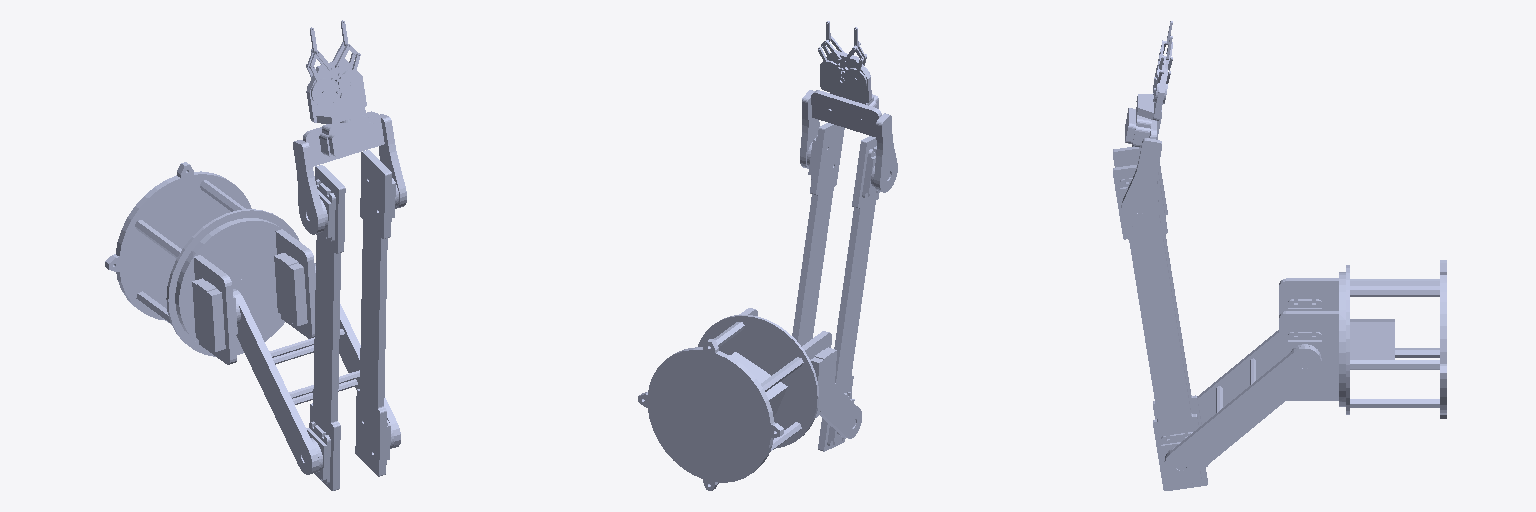
The robot description file, URDF, robot "ROBOTIC ARM ASSM URDF AND MESHES":
<?xml version="1.0" encoding="utf-8"?>
<!-- This URDF was automatically created by SolidWorks to URDF Exporter! Originally created by [author] ([email redacted]) 
     Commit Version: 1.5.1-0-g916b5db  Build Version: 1.5.7152.31018
     For more information, please see http://wiki.ros.org/sw_urdf_exporter -->
<robot
  name="ROBOTIC ARM ASSM URDF AND MESHES">
  <link
    name="base_link">
    <inertial>
      <origin
        xyz="0.0130606856888135 -0.133927940020527 0.104796725192401"
        rpy="0 0 0" />
      <mass
        value="1.3348146018366" />
      <inertia
        ixx="0.00731717119287839"
        ixy="-7.11045805568135E-21"
        ixz="-5.57214543565611E-19"
        iyy="0.0135564188757262"
        iyz="-2.94900207348336E-19"
        izz="0.00731717119287839" />
    </inertial>
    <visual>
      <origin
        xyz="0 0 0"
        rpy="0 0 0" />
      <geometry>
        <mesh
          filename="package://ROBOTIC ARM ASSM URDF AND MESHES/meshes/base_link.STL" />
      </geometry>
      <material
        name="">
        <color
          rgba="0.792156862745098 0.819607843137255 0.933333333333333 1" />
      </material>
    </visual>
    <collision>
      <origin
        xyz="0 0 0"
        rpy="0 0 0" />
      <geometry>
        <mesh
          filename="package://ROBOTIC ARM ASSM URDF AND MESHES/meshes/base_link.STL" />
      </geometry>
    </collision>
  </link>
  <link
    name="rotating base">
    <inertial>
      <origin
        xyz="-0.00118830586385246 -0.000117561062136257 0.107080284193852"
        rpy="0 0 0" />
      <mass
        value="1.39759764473395" />
      <inertia
        ixx="0.00478115680882623"
        ixy="-0.000102672286793589"
        ixz="3.62391329450547E-05"
        iyy="0.00570738237120315"
        iyz="2.29069919150104E-06"
        izz="0.00576377931534605" />
    </inertial>
    <visual>
      <origin
        xyz="0 0 0"
        rpy="0 0 0" />
      <geometry>
        <mesh
          filename="package://ROBOTIC ARM ASSM URDF AND MESHES/meshes/rotating base.STL" />
      </geometry>
      <material
        name="">
        <color
          rgba="0.792156862745098 0.819607843137255 0.933333333333333 1" />
      </material>
    </visual>
    <collision>
      <origin
        xyz="0 0 0"
        rpy="0 0 0" />
      <geometry>
        <mesh
          filename="package://ROBOTIC ARM ASSM URDF AND MESHES/meshes/rotating base.STL" />
      </geometry>
    </collision>
  </link>
  <joint
    name="rotating base"
    type="fixed">
    <origin
      xyz="0.0130606856888136 -0.160303043320073 0.104796725192401"
      rpy="1.5707963267949 0 0" />
    <parent
      link="base_link" />
    <child
      link="rotating base" />
    <axis
      xyz="0 0 0" />
  </joint>
  <link
    name="lower arm">
    <inertial>
      <origin
        xyz="-0.128633379591227 -6.66133814775094E-16 -0.0583747798123897"
        rpy="0 0 0" />
      <mass
        value="0.325078566457199" />
      <inertia
        ixx="0.000884467798485974"
        ixy="-4.28673439826691E-06"
        ixz="-1.01431759828584E-20"
        iyy="0.00203100229868317"
        iyz="-4.48158543981203E-19"
        izz="0.00126432994950172" />
    </inertial>
    <visual>
      <origin
        xyz="0 0 0"
        rpy="0 0 0" />
      <geometry>
        <mesh
          filename="package://ROBOTIC ARM ASSM URDF AND MESHES/meshes/lower arm.STL" />
      </geometry>
      <material
        name="">
        <color
          rgba="0.792156862745098 0.819607843137255 0.933333333333333 1" />
      </material>
    </visual>
    <collision>
      <origin
        xyz="0 0 0"
        rpy="0 0 0" />
      <geometry>
        <mesh
          filename="package://ROBOTIC ARM ASSM URDF AND MESHES/meshes/lower arm.STL" />
      </geometry>
    </collision>
  </link>
  <joint
    name="lower arm"
    type="fixed">
    <origin
      xyz="0.0789039407101542 0.0351054747045865 0.156246736186644"
      rpy="1.5707963267949 0.848171739621261 1.63758786604713" />
    <parent
      link="rotating base" />
    <child
      link="lower arm" />
    <axis
      xyz="0 0 0" />
  </joint>
  <link
    name="upper arm ">
    <inertial>
      <origin
        xyz="-0.0550000000000023 0.162571615295359 -0.0390699999999903"
        rpy="0 0 0" />
      <mass
        value="0.553932772437962" />
      <inertia
        ixx="0.00950068407154474"
        ixy="1.03939412957575E-16"
        ixz="5.41032802532309E-20"
        iyy="0.000128887101671353"
        iyz="1.40700012236978E-18"
        izz="0.00961971522402867" />
    </inertial>
    <visual>
      <origin
        xyz="0 0 0"
        rpy="0 0 0" />
      <geometry>
        <mesh
          filename="package://ROBOTIC ARM ASSM URDF AND MESHES/meshes/upper arm .STL" />
      </geometry>
      <material
        name="">
        <color
          rgba="0.792156862745098 0.819607843137255 0.933333333333333 1" />
      </material>
    </visual>
    <collision>
      <origin
        xyz="0 0 0"
        rpy="0 0 0" />
      <geometry>
        <mesh
          filename="package://ROBOTIC ARM ASSM URDF AND MESHES/meshes/upper arm .STL" />
      </geometry>
    </collision>
  </link>
  <joint
    name="upper arm"
    type="fixed">
    <origin
      xyz="-0.311174431281137 0.029881798738756 -0.0941399999999955"
      rpy="-3.14159265358979 0 2.56722332066206" />
    <parent
      link="lower arm" />
    <child
      link="upper arm " />
    <axis
      xyz="0 0 0" />
  </joint>
  <link
    name="upper wrist">
    <inertial>
      <origin
        xyz="-0.0599002775619729 0.0145250651582455 -0.039069999999978"
        rpy="0 0 0" />
      <mass
        value="0.157249507163386" />
      <inertia
        ixx="0.000103336543586532"
        ixy="2.38357966733588E-05"
        ixz="1.26706713192803E-20"
        iyy="3.21046938039661E-05"
        iyz="3.6886690726029E-20"
        izz="0.000132196675957652" />
    </inertial>
    <visual>
      <origin
        xyz="0 0 0"
        rpy="0 0 0" />
      <geometry>
        <mesh
          filename="package://ROBOTIC ARM ASSM URDF AND MESHES/meshes/upper wrist.STL" />
      </geometry>
      <material
        name="">
        <color
          rgba="0.792156862745098 0.819607843137255 0.933333333333333 1" />
      </material>
    </visual>
    <collision>
      <origin
        xyz="0 0 0"
        rpy="0 0 0" />
      <geometry>
        <mesh
          filename="package://ROBOTIC ARM ASSM URDF AND MESHES/meshes/upper wrist.STL" />
      </geometry>
    </collision>
  </link>
  <joint
    name="upper wrist"
    type="fixed">
    <origin
      xyz="0 0.371200669102145 0"
      rpy="0 0 0" />
    <parent
      link="upper arm " />
    <child
      link="upper wrist" />
    <axis
      xyz="0 0 0" />
  </joint>
  <link
    name="middle wrist">
    <inertial>
      <origin
        xyz="0.0650700000000001 -0.0896700233335407 -0.012715703160485"
        rpy="0 0 0" />
      <mass
        value="0.113820080301924" />
      <inertia
        ixx="1.80752904389812E-05"
        ixy="1.0919367685401E-18"
        ixz="-3.9156151866306E-19"
        iyy="7.58156761069057E-05"
        iyz="-1.94817577868489E-20"
        izz="8.93102953285944E-05" />
    </inertial>
    <visual>
      <origin
        xyz="0 0 0"
        rpy="0 0 0" />
      <geometry>
        <mesh
          filename="package://ROBOTIC ARM ASSM URDF AND MESHES/meshes/middle wrist.STL" />
      </geometry>
      <material
        name="">
        <color
          rgba="0.792156862745098 0.819607843137255 0.933333333333333 1" />
      </material>
    </visual>
    <collision>
      <origin
        xyz="0 0 0"
        rpy="0 0 0" />
      <geometry>
        <mesh
          filename="package://ROBOTIC ARM ASSM URDF AND MESHES/meshes/middle wrist.STL" />
      </geometry>
    </collision>
  </link>
  <joint
    name="middle wrist"
    type="fixed">
    <origin
      xyz="-0.0322592690294007 0.00767197203615905 -0.104139999999975"
      rpy="-1.36065826757667 -1.57079631189374 -1.45573033079862" />
    <parent
      link="upper wrist" />
    <child
      link="middle wrist" />
    <axis
      xyz="0 0 0" />
  </joint>
  <link
    name="lower wrist">
    <inertial>
      <origin
        xyz="-1.27689525619701E-13 0.0112725620294359 0.0238188793866976"
        rpy="0 0 0" />
      <mass
        value="0.0521786415366043" />
      <inertia
        ixx="2.40049687608685E-05"
        ixy="6.85519646080666E-18"
        ixz="-2.49698529969545E-18"
        iyy="4.35494931309565E-05"
        iyz="-3.42527115552257E-06"
        izz="2.46186676394023E-05" />
    </inertial>
    <visual>
      <origin
        xyz="0 0 0"
        rpy="0 0 0" />
      <geometry>
        <mesh
          filename="package://ROBOTIC ARM ASSM URDF AND MESHES/meshes/lower wrist.STL" />
      </geometry>
      <material
        name="">
        <color
          rgba="0.792156862745098 0.819607843137255 0.933333333333333 1" />
      </material>
    </visual>
    <collision>
      <origin
        xyz="0 0 0"
        rpy="0 0 0" />
      <geometry>
        <mesh
          filename="package://ROBOTIC ARM ASSM URDF AND MESHES/meshes/lower wrist.STL" />
      </geometry>
    </collision>
  </link>
  <joint
    name="lower wrist"
    type="continuous">
    <origin
      xyz="0.0650700000000014 -0.119432096019538 -0.00999999999999968"
      rpy="-1.5707963267949 0.0109990775981734 3.14159265358977" />
    <parent
      link="middle wrist" />
    <child
      link="lower wrist" />
    <axis
      xyz="0 0 1" />
  </joint>
  <link
    name="end effector">
    <inertial>
      <origin
        xyz="0.0220101986823068 -0.00839778572419919 -0.0251828532395343"
        rpy="0 0 0" />
      <mass
        value="0.0176722137375324" />
      <inertia
        ixx="2.0810550684717E-06"
        ixy="7.84909138690052E-08"
        ixz="5.8776476477813E-19"
        iyy="1.42701843773802E-06"
        iyz="1.36107606711925E-19"
        izz="3.48089604018254E-06" />
    </inertial>
    <visual>
      <origin
        xyz="0 0 0"
        rpy="0 0 0" />
      <geometry>
        <mesh
          filename="package://ROBOTIC ARM ASSM URDF AND MESHES/meshes/end effector.STL" />
      </geometry>
      <material
        name="">
        <color
          rgba="0.792156862745098 0.819607843137255 0.933333333333333 1" />
      </material>
    </visual>
    <collision>
      <origin
        xyz="0 0 0"
        rpy="0 0 0" />
      <geometry>
        <mesh
          filename="package://ROBOTIC ARM ASSM URDF AND MESHES/meshes/end effector.STL" />
      </geometry>
    </collision>
  </link>
  <joint
    name="end effector"
    type="continuous">
    <origin
      xyz="0.020000000000215 -0.010878906011115 0.0353739216947843"
      rpy="-1.5707963267949 -0.207904224454029 3.14159265358979" />
    <parent
      link="lower wrist" />
    <child
      link="end effector" />
    <axis
      xyz="0 0 1" />
  </joint>
</robot>

--- Facts derived from the render (not from the file) ---
Views: 3 orthographic renders of the robot side by side, from view 1: azimuth 30°, elevation 25°; view 2: azimuth 150°, elevation 25°; view 3: azimuth 270°, elevation 25°.
Robot: ROBOTIC ARM ASSM URDF AND MESHES — 8 links, 7 joints (2 continuous, 5 fixed); root link base_link; default pose: all joints at 0.
Visible links, largest first — view 1: rotating base, upper arm, lower arm, upper wrist, middle wrist, end effector, lower wrist; view 2: rotating base, upper arm, upper wrist, middle wrist, end effector, lower arm, lower wrist; view 3: rotating base, upper arm, lower arm, upper wrist, middle wrist, lower wrist, end effector.
Boxes of the visible links, box(x1,y1,x2,y2) form: rotating base: box(105, 162, 315, 364); upper arm: box(302, 150, 393, 490); lower arm: box(233, 263, 400, 474); upper wrist: box(293, 114, 406, 241); middle wrist: box(297, 108, 384, 166); end effector: box(306, 20, 362, 105); lower wrist: box(306, 59, 366, 124); rotating base: box(638, 308, 836, 490); upper arm: box(792, 123, 879, 451); upper wrist: box(800, 90, 897, 198); middle wrist: box(811, 90, 888, 136); end effector: box(818, 21, 870, 89); lower arm: box(820, 386, 861, 438); lower wrist: box(820, 50, 871, 102); rotating base: box(1279, 260, 1446, 418); upper arm: box(1113, 147, 1207, 490); lower arm: box(1165, 299, 1321, 481); upper wrist: box(1120, 110, 1161, 229); middle wrist: box(1125, 100, 1156, 160); lower wrist: box(1136, 60, 1167, 120); end effector: box(1153, 21, 1172, 103).
Bounding box of the posed robot: 0.23 × 0.4466 × 0.6503 m (x, y, z).
Meshes: 8 distinct files referenced, 7 mesh visuals loaded (7 binary STL); not drawn: 1 (reference not matched to a file when rendering).